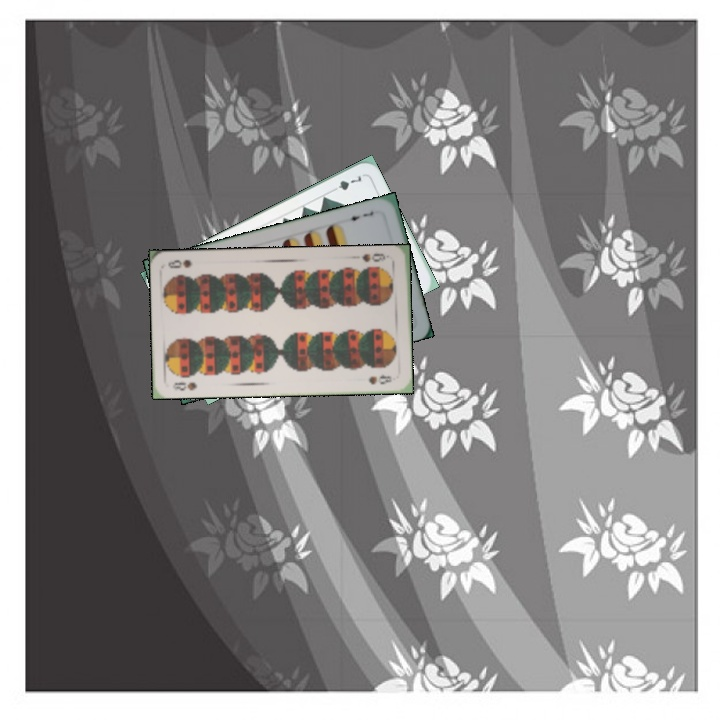E7: (343, 207, 376, 223)
G7: (327, 171, 364, 195)
S8: (359, 250, 391, 264), (170, 378, 199, 393)
